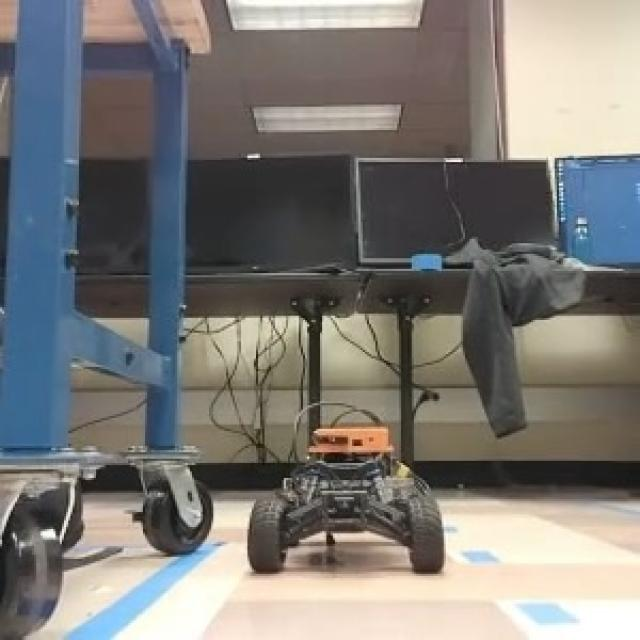obstacle: (243, 423, 453, 577)
